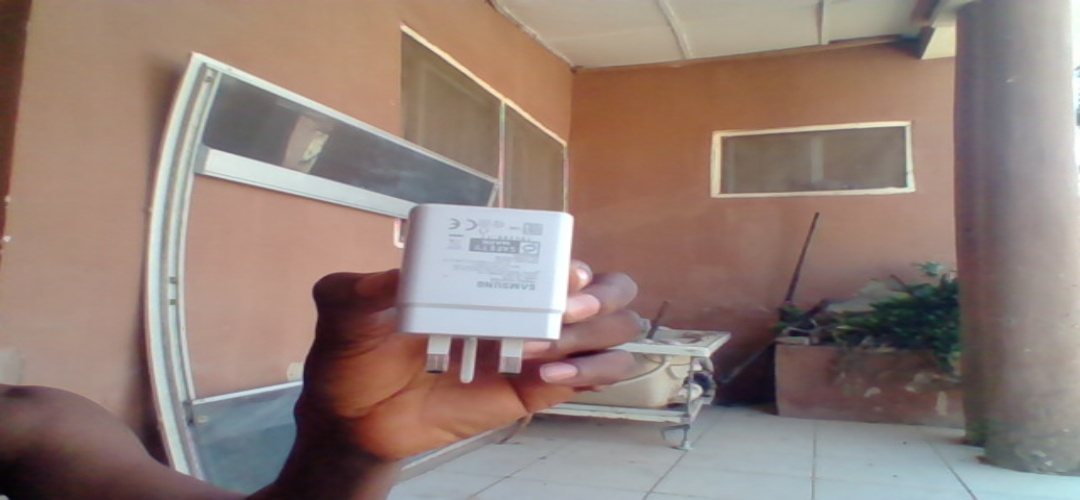phone_charger: (402, 202, 573, 386)
